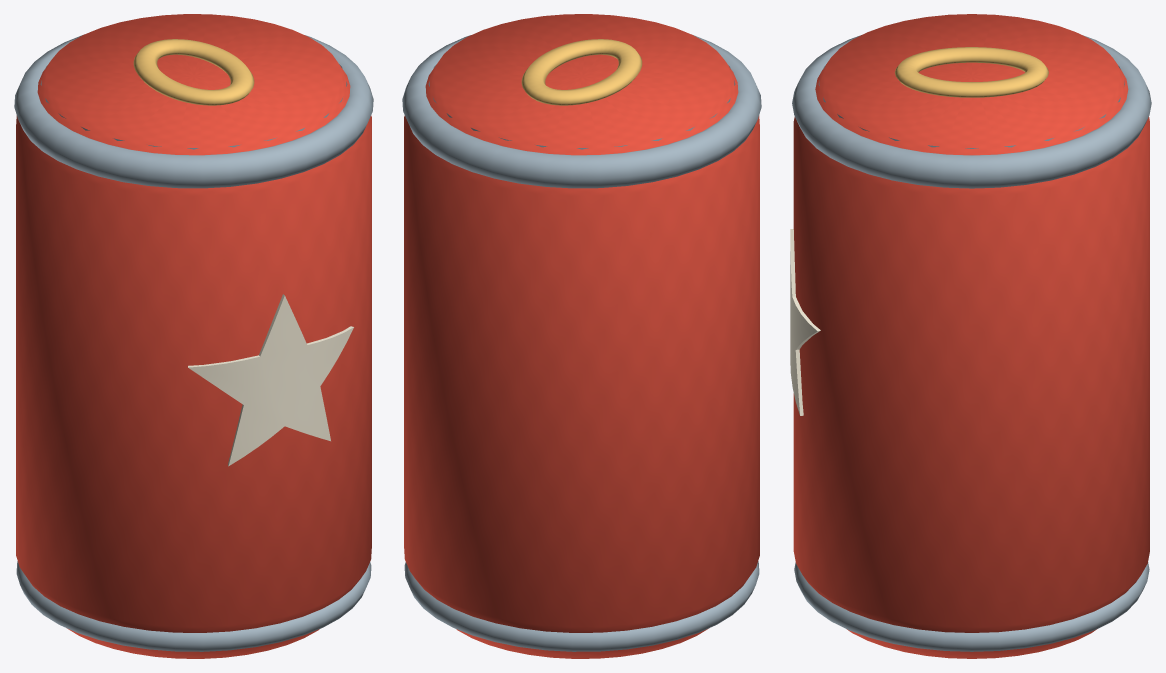
Rendered from SODA.glb.
3 renders of one model, left to right at view 1: azimuth 30°, elevation 25°; view 2: azimuth 150°, elevation 25°; view 3: azimuth 270°, elevation 25°, orthographic.
Visible parts, largest first — view 1: SODA; view 2: SODA; view 3: SODA.
Boxes of the visible parts, x1=… form: SODA: x1=14, y1=14, x2=373, y2=658; SODA: x1=402, y1=14, x2=761, y2=658; SODA: x1=790, y1=14, x2=1151, y2=658.
Size of the model in its own units: 0.1818 by 0.2957 by 0.1827.
Materials: 4 (1 with a texture image).
